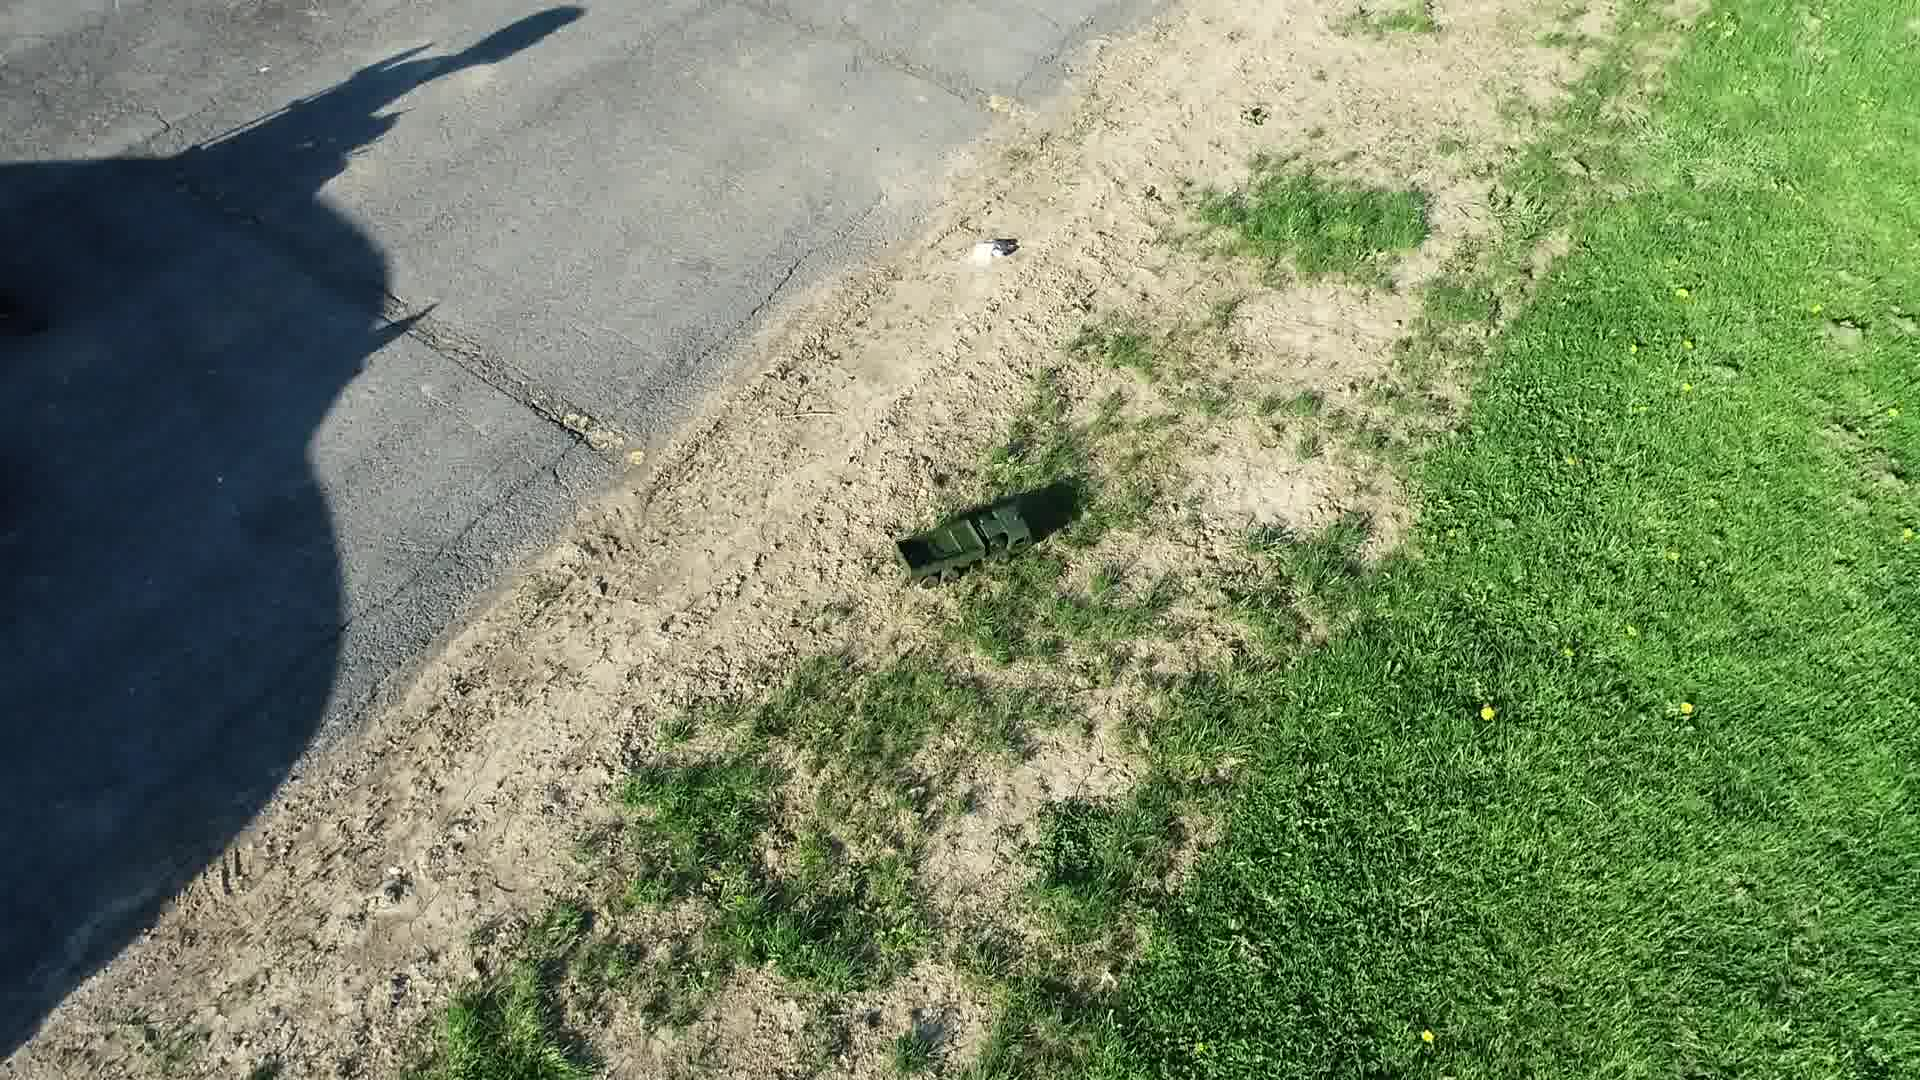transporter9: (889, 498, 1038, 593)
